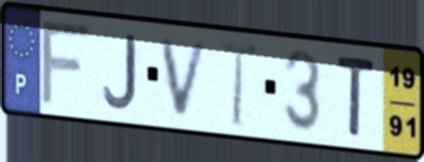3: (281, 46, 323, 136)
F: (38, 20, 94, 108)
J: (100, 33, 140, 112)
T: (334, 51, 378, 140), (219, 36, 260, 129)
V: (158, 36, 212, 120)
